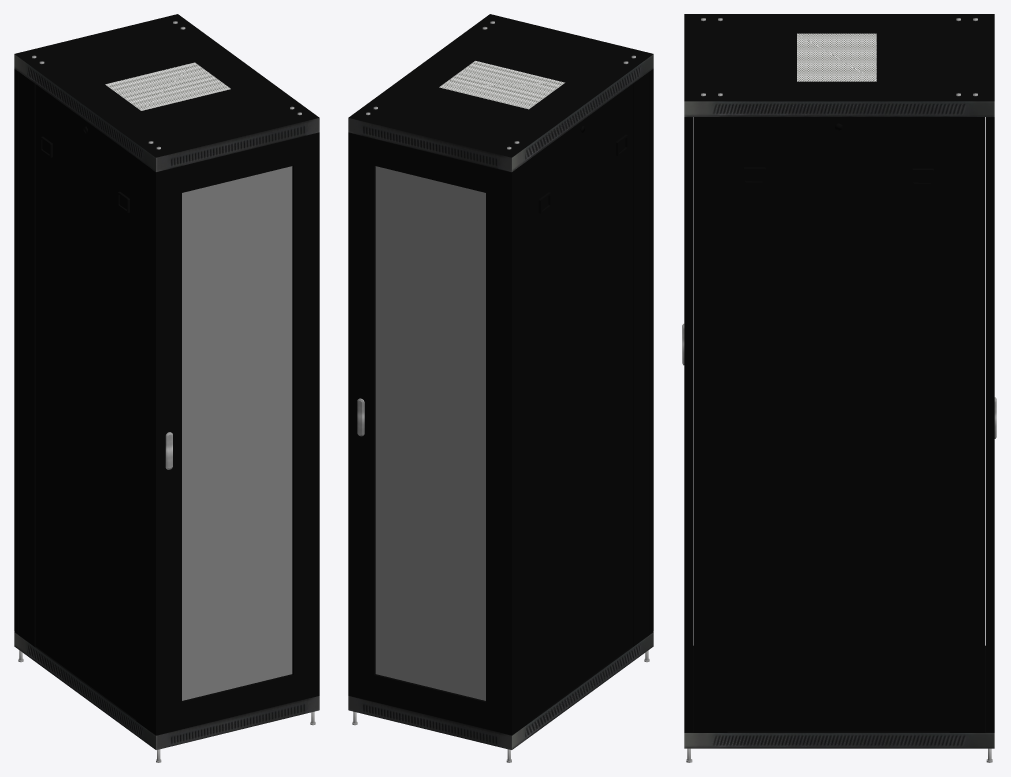
File: RKBB41.fbx
The picture shows the model from 3 angles, left to right: view 1: azimuth 30°, elevation 25°; view 2: azimuth 150°, elevation 25°; view 3: azimuth 270°, elevation 25°; orthographic projection. The views are drawn at different scales.
Visible parts, largest first — view 1: frontdoor, RKBB41, Box118, backdoor; view 2: backdoor, RKBB41, Box118, frontdoor; view 3: RKBB41, Box118, frontdoor, backdoor.
Boxes of the visible parts, x1=… form: frontdoor: x1=152, y1=132, x2=319, y2=735; RKBB41: x1=35, y1=84, x2=136, y2=719; Box118: x1=14, y1=14, x2=319, y2=762; backdoor: x1=14, y1=68, x2=18, y2=633; backdoor: x1=348, y1=132, x2=515, y2=735; RKBB41: x1=532, y1=83, x2=633, y2=719; Box118: x1=348, y1=14, x2=653, y2=762; frontdoor: x1=649, y1=68, x2=653, y2=633; RKBB41: x1=727, y1=117, x2=949, y2=731; Box118: x1=684, y1=14, x2=994, y2=762; frontdoor: x1=682, y1=117, x2=692, y2=732; backdoor: x1=986, y1=117, x2=996, y2=732.
Size of the model in its own units: 610 by 2128 by 913.
6 materials, 4 textured.
